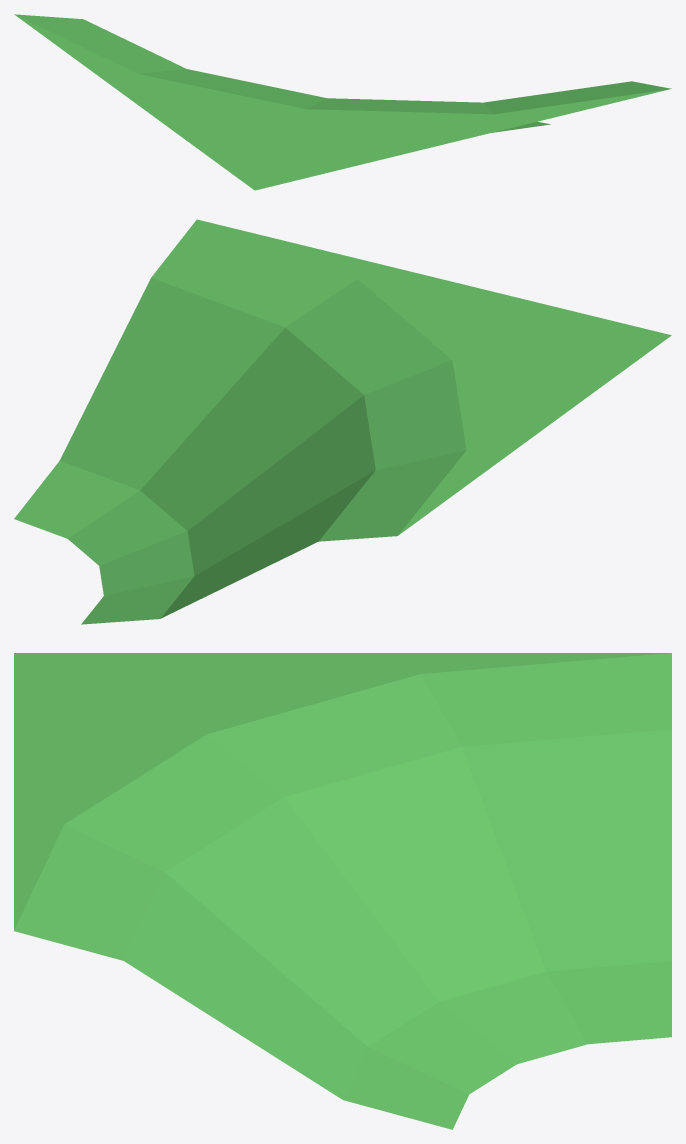
File: Hilly_Terrain_Hill_Corner_Inner_3x3.glb
3 views of the same model, one above another, from view 1: azimuth 30°, elevation 25°; view 2: azimuth 150°, elevation 25°; view 3: azimuth 270°, elevation 25° (orthographic). The views are drawn at different scales.
Visible parts, largest first — view 1: Hilly_Terrain_Hill_Corner_Inner_3x3; view 2: Hilly_Terrain_Hill_Corner_Inner_3x3; view 3: Hilly_Terrain_Hill_Corner_Inner_3x3.
Boxes of the visible parts, x1,y1,x2,y2 form: Hilly_Terrain_Hill_Corner_Inner_3x3: (14,14,671,190); Hilly_Terrain_Hill_Corner_Inner_3x3: (14,219,671,624); Hilly_Terrain_Hill_Corner_Inner_3x3: (14,653,671,1129).
Size of the model in its own units: 3 by 1 by 3.
